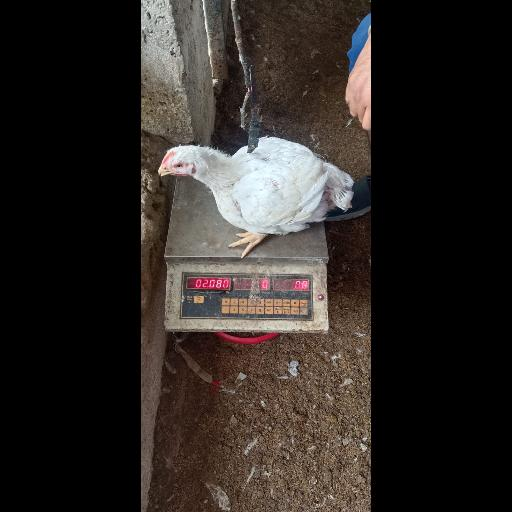chick: (160, 137, 354, 258)
